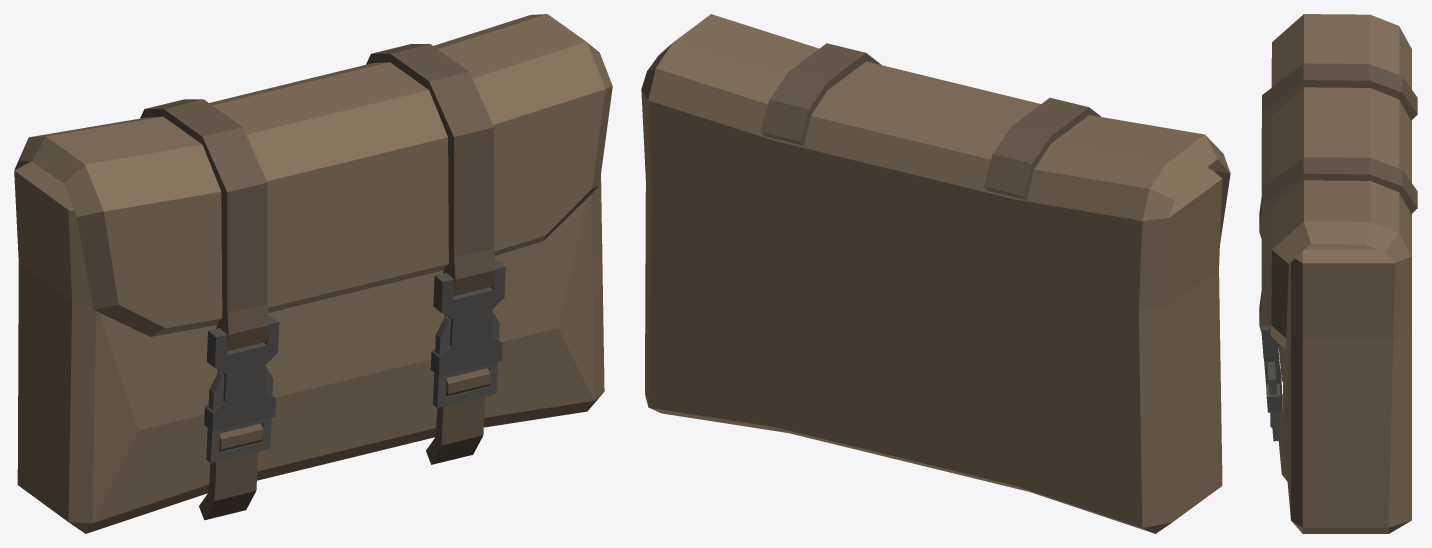
The model's file is Pouch_09_SM.FBX.
3 views of the same model, side by side, from view 1: azimuth 30°, elevation 25°; view 2: azimuth 150°, elevation 25°; view 3: azimuth 270°, elevation 25° (orthographic). The views are drawn at different scales.
Visible parts, largest first — view 1: Pouch_09_SM; view 2: Pouch_09_SM; view 3: Pouch_09_SM.
Part boxes in pixels (<box>): Pouch_09_SM: <box>14,14,612,533</box>; Pouch_09_SM: <box>641,14,1230,533</box>; Pouch_09_SM: <box>1259,14,1417,533</box>.
Size of what is drawn, in the model's own units: 19.86 by 6.01 by 13.54.
